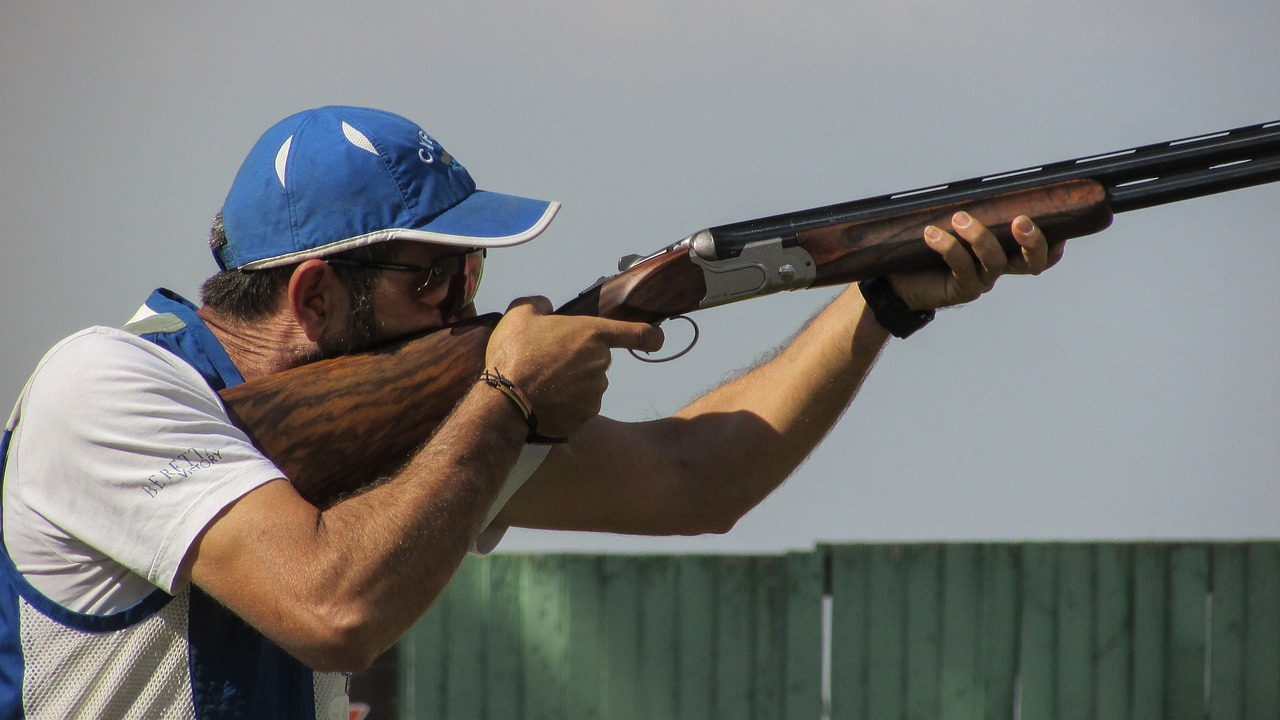gun: (210, 112, 1280, 505)
